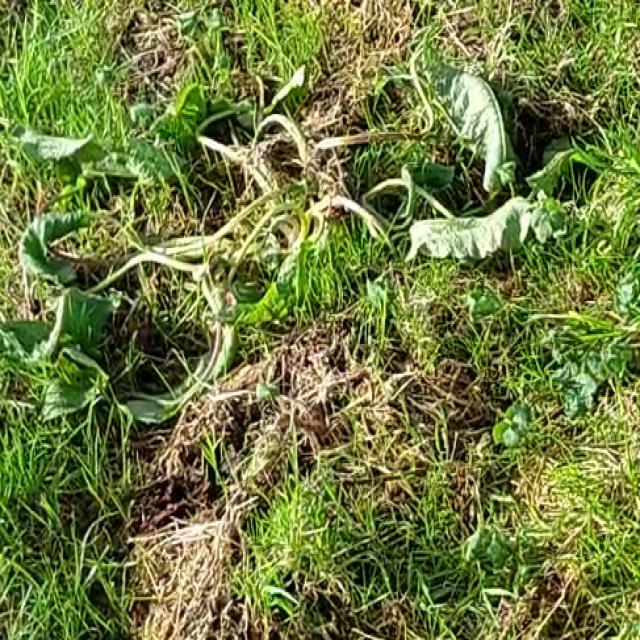organic waste: (20, 51, 545, 425)
